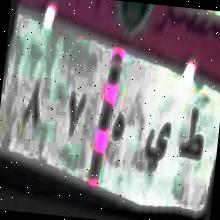7: (64, 81, 88, 143)
8: (20, 71, 42, 130)
Taa: (173, 94, 208, 172)
haa: (108, 101, 128, 153)
yaa: (137, 110, 172, 183)
